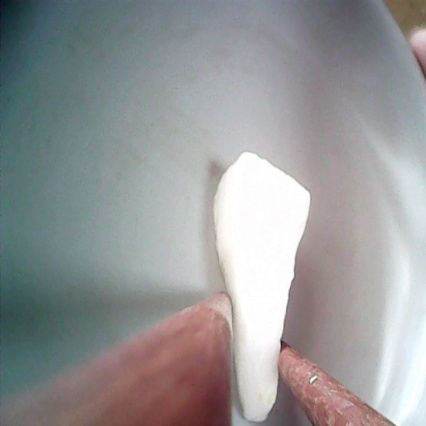white_chinese-yam: (208, 148, 313, 422)
